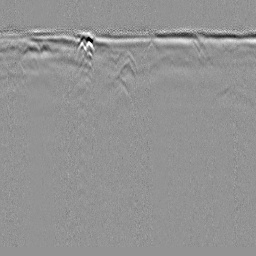cavity: (117, 55, 136, 78)
